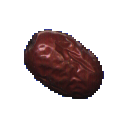gd: (16, 18, 120, 112)
